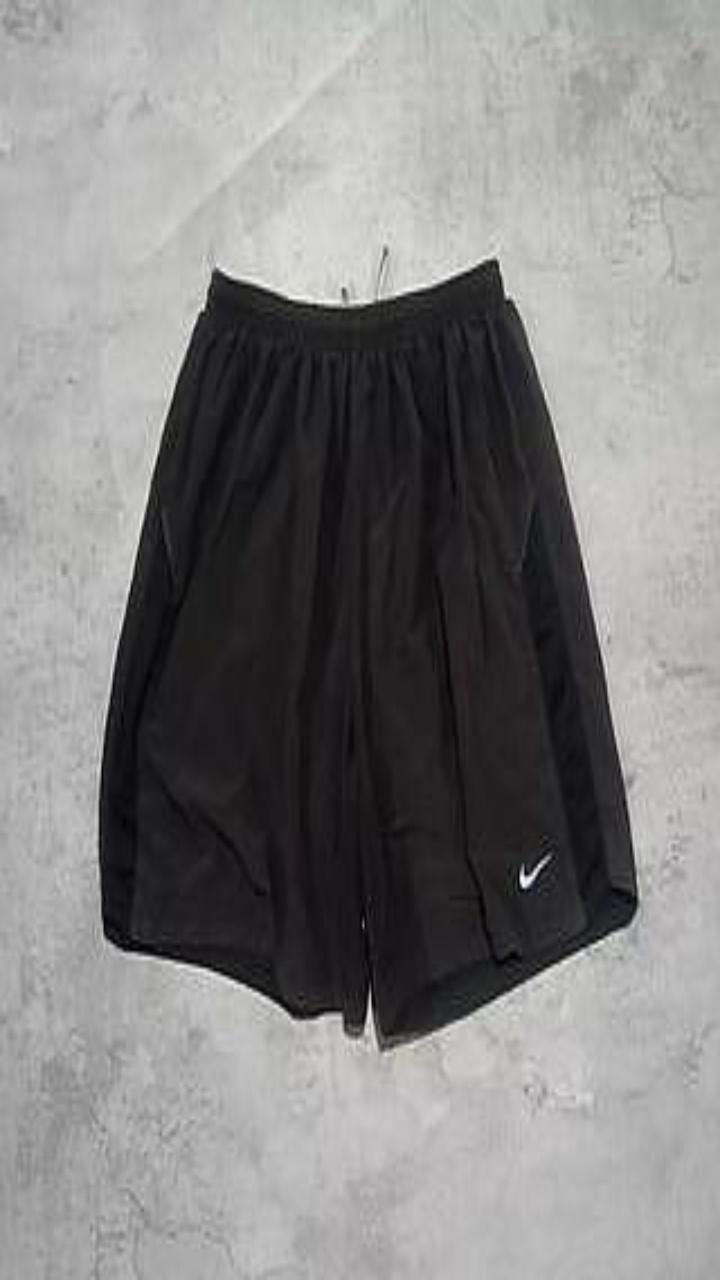Shorts: (99, 258, 637, 1045)
